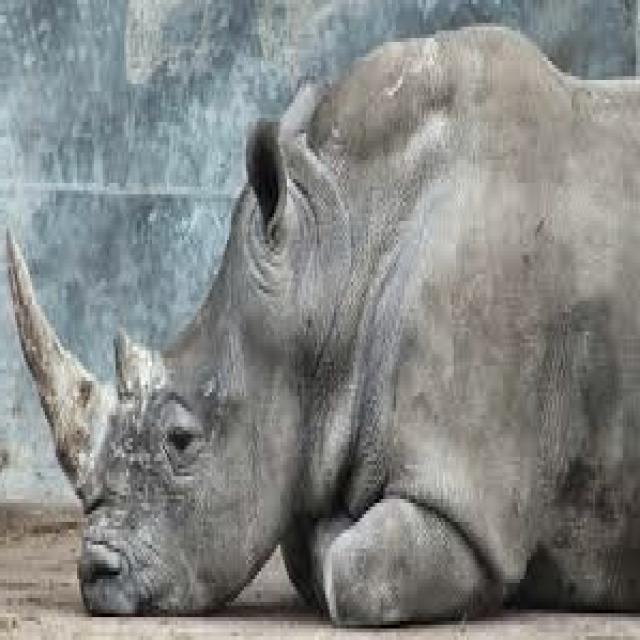rhinoceros: (11, 27, 640, 621)
